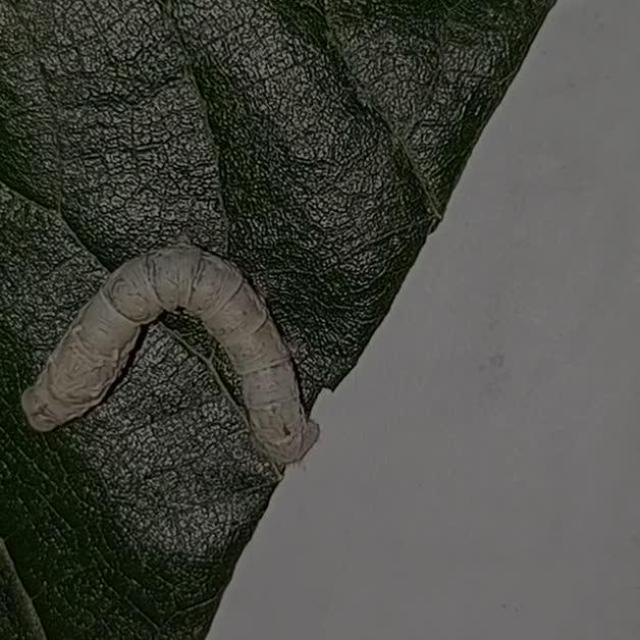Healthy: (10, 237, 325, 469)
